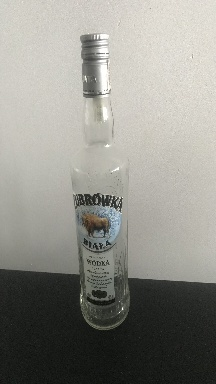butelka: (68, 30, 131, 332)
